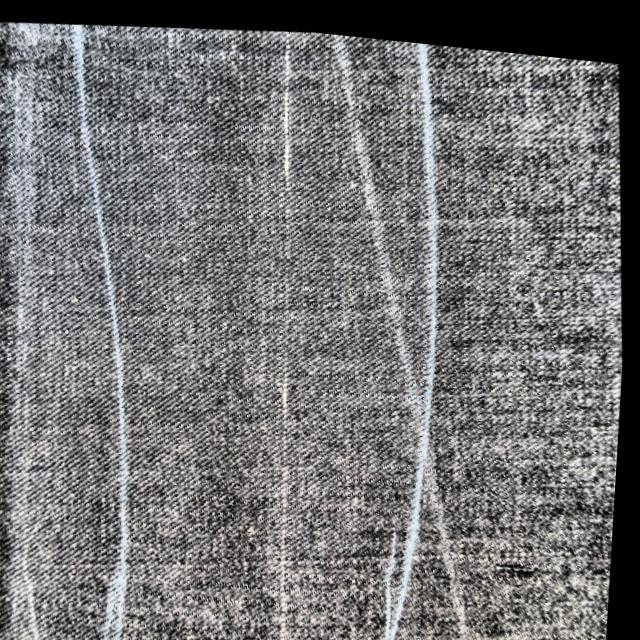Hole: (274, 40, 295, 640)
